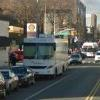Bus: (18, 35, 70, 75)
